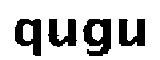g: (79, 13, 112, 60)
q: (11, 13, 43, 60)
u: (116, 14, 147, 51), (47, 16, 78, 51)
